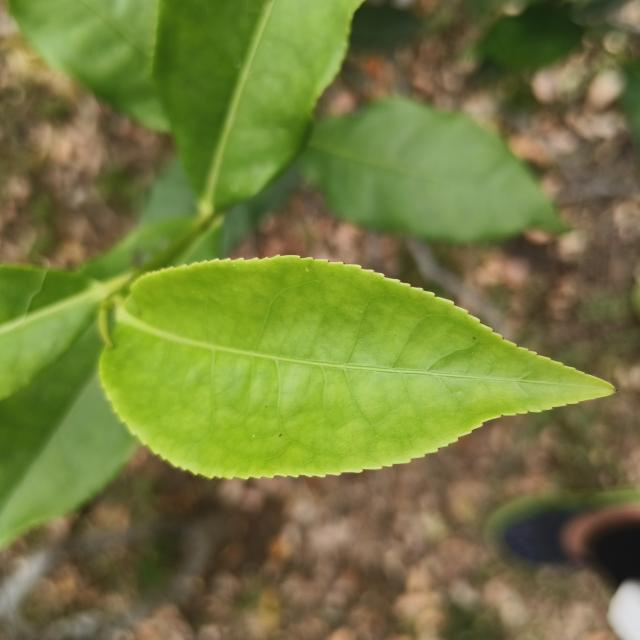Leaf: (100, 256, 611, 478), (153, 0, 362, 213), (300, 97, 564, 242), (0, 324, 139, 548), (7, 0, 168, 131), (0, 265, 110, 399), (477, 0, 583, 70)
